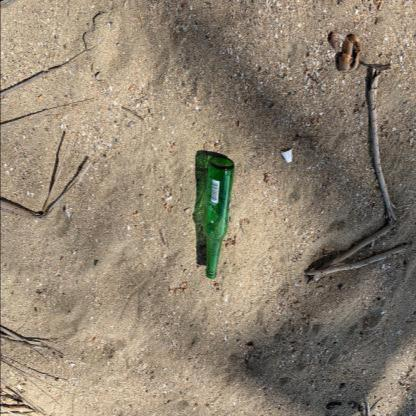Bottle cap: (203, 156, 235, 279)
Unlabeled litter: (281, 149, 293, 163)
